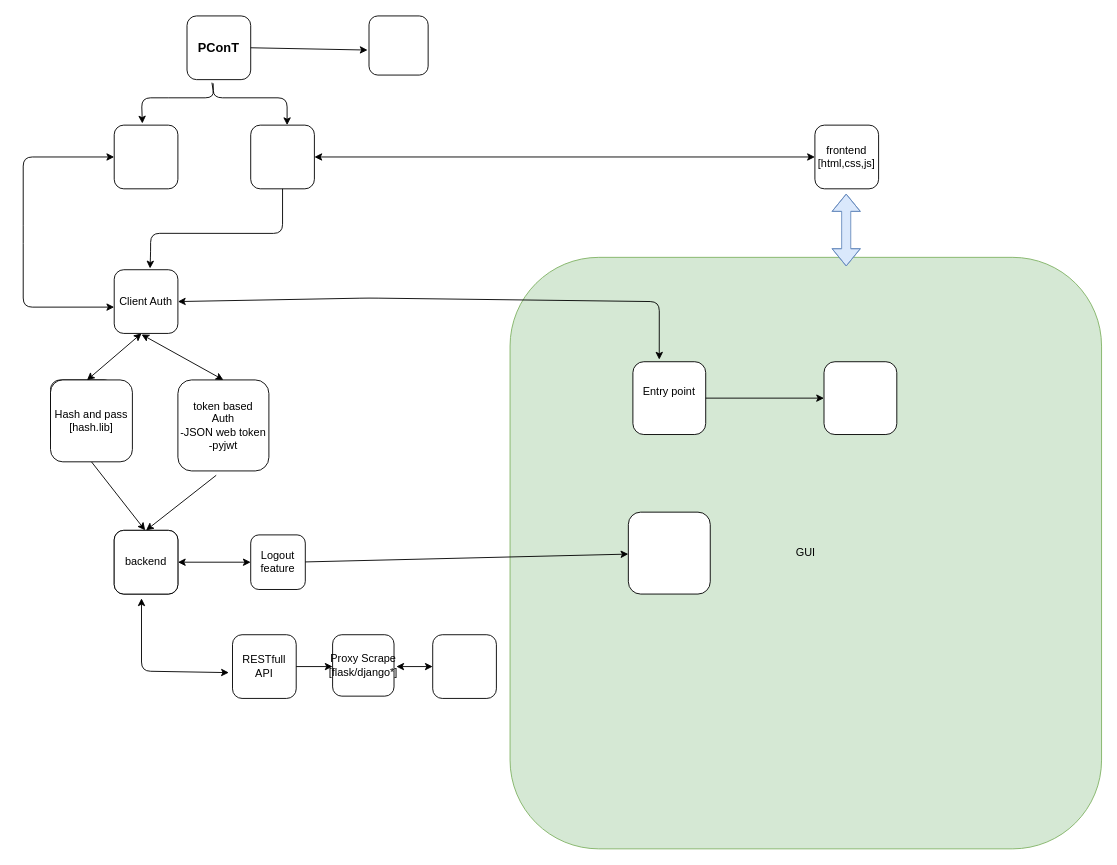
Image size: 1117x865. Some labels were removed from this diagram. The shapes that lost their labels are listed below. From the top down, each one's centre as x and y in pixels, then its label:
(398,45): V0.1 for debian-distros
(145,156): Script [bash+python]
(282,156): web app
(860,398): user runs [chain lenght] [priority]
(668,552): Exit point
(464,666): selenium/ scrapy pylibs for scraping
